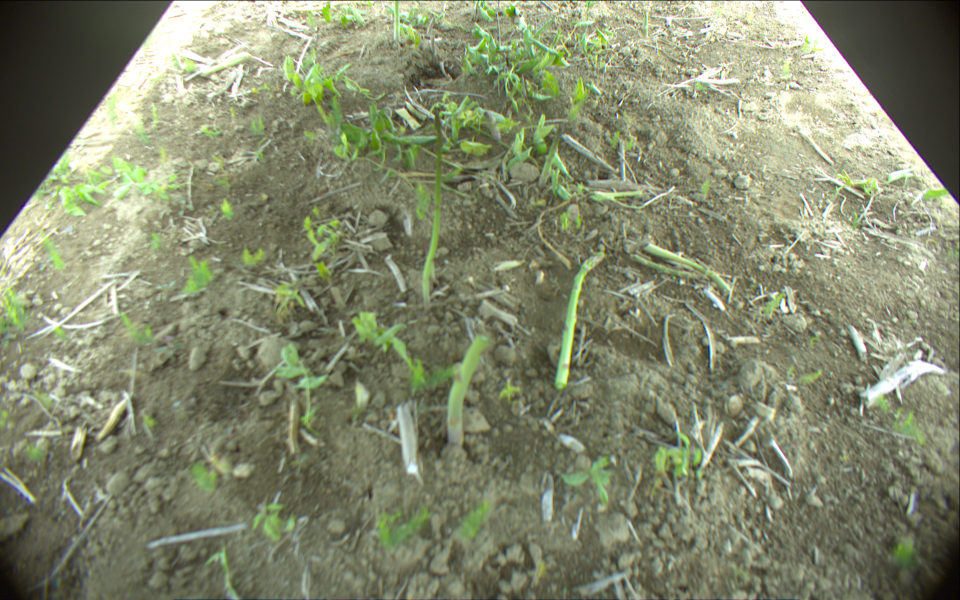aspa: (555, 252, 606, 389), (447, 335, 488, 448), (644, 243, 730, 295), (420, 111, 442, 308), (633, 255, 712, 280), (536, 126, 564, 187), (195, 51, 250, 76), (393, 1, 401, 40)
